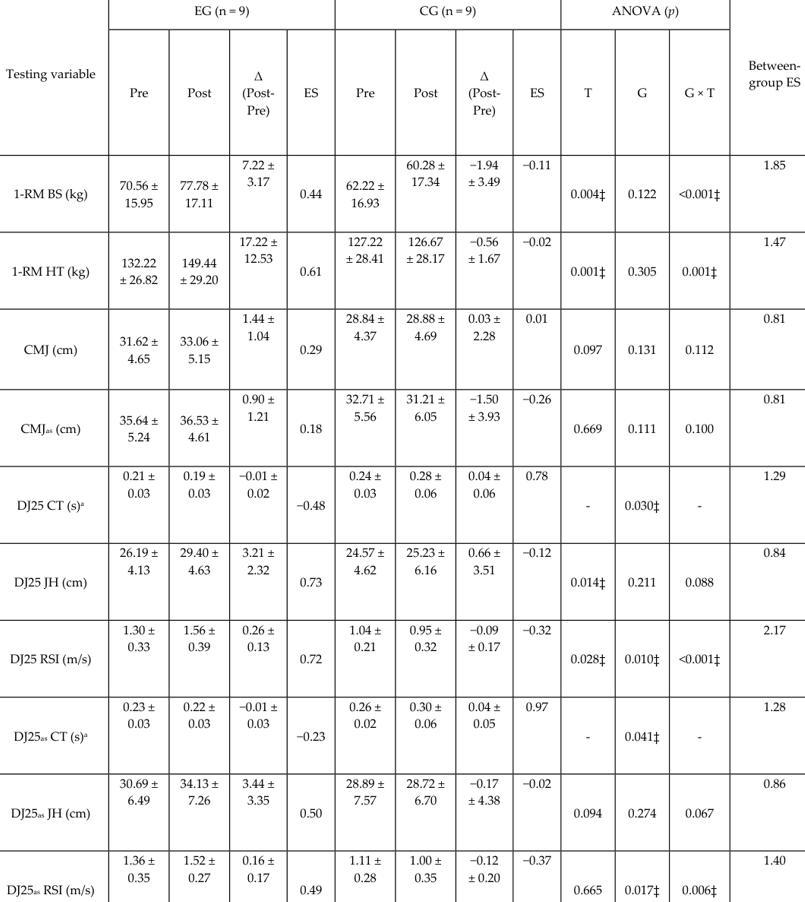table: (5, 5, 800, 897)
table column: (5, 5, 106, 897), (733, 5, 800, 897), (668, 5, 733, 897), (106, 5, 168, 897), (394, 5, 455, 897), (168, 5, 228, 897), (334, 5, 394, 897), (228, 5, 286, 897), (455, 5, 510, 897), (560, 5, 614, 897), (614, 5, 668, 897), (510, 5, 560, 897), (286, 5, 334, 897)
table column header: (5, 5, 800, 138)
table row: (5, 44, 800, 138), (5, 138, 800, 222), (5, 299, 800, 379), (5, 379, 800, 457), (5, 222, 800, 299), (5, 529, 800, 606), (5, 606, 800, 683), (5, 683, 800, 760), (5, 760, 800, 837), (5, 457, 800, 529), (5, 837, 800, 897), (5, 5, 800, 44)
table spanning cell: (5, 5, 106, 138), (733, 5, 800, 138), (106, 5, 334, 44), (334, 5, 560, 44), (560, 5, 733, 44)
